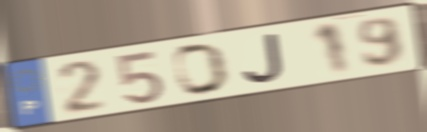1: (311, 19, 353, 78)
2: (55, 59, 109, 117)
5: (113, 47, 167, 106)
9: (355, 15, 407, 70)
J: (241, 31, 286, 86)
O: (171, 41, 232, 97)
